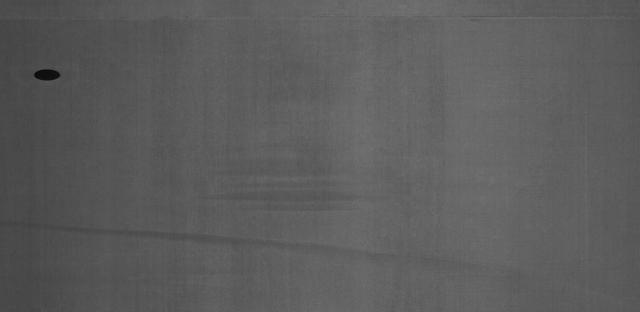punching_hole: (27, 63, 62, 84)
